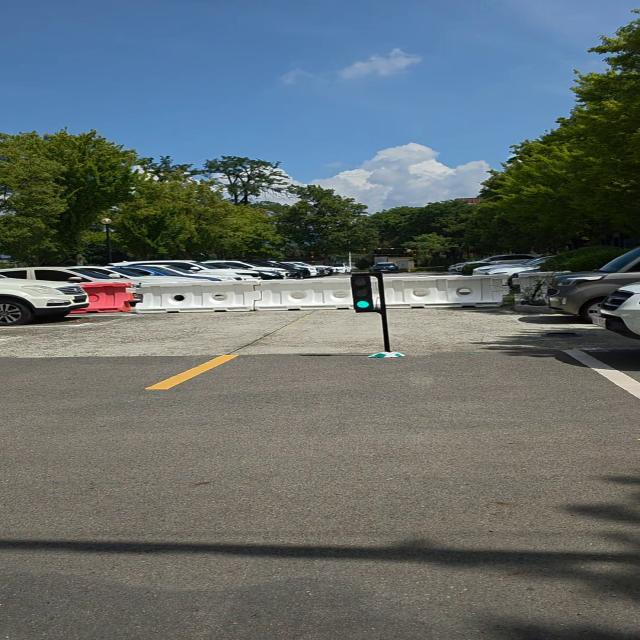green: (347, 274, 382, 313)
